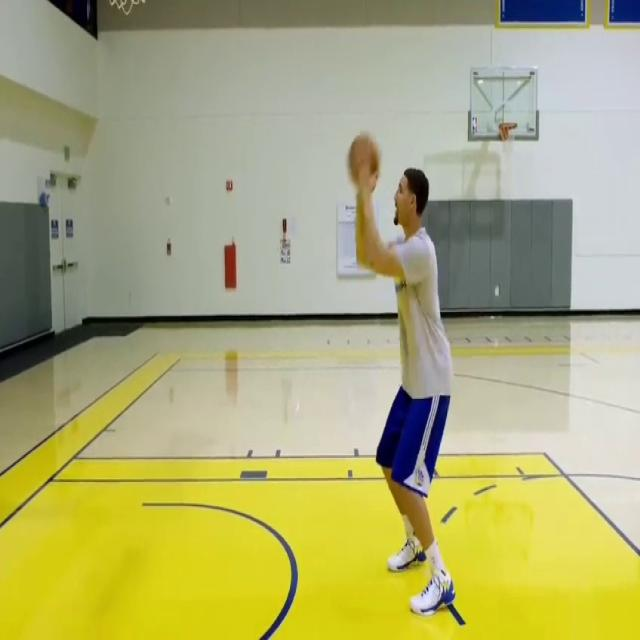ball: (347, 131, 382, 189)
